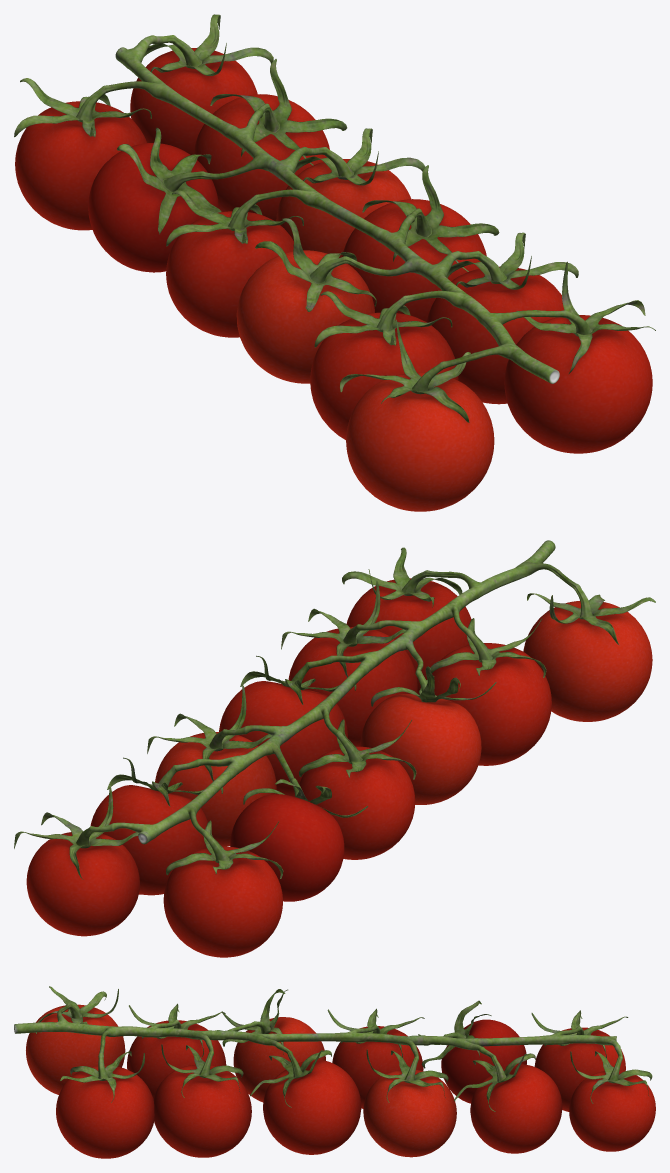
The model's file is cherry_tomato_branch_02.fbx.
3 views of the same model, one above another, from view 1: azimuth 30°, elevation 25°; view 2: azimuth 150°, elevation 25°; view 3: azimuth 270°, elevation 25° (orthographic). The views are drawn at different scales.
Parts seen in each view (by area): view 1: stem, tomato_10, tomato_09, tomato_06, tomato_02, tomato_04, tomato_00, tomato_08, tomato_11, tomato_03, tomato_01, tomato_07 (+1 smaller); view 2: stem, tomato_10, tomato_02, tomato_06, tomato_07, tomato_08, tomato_04, tomato_00, tomato_01, tomato_03, tomato_11, tomato_05 (+1 smaller); view 3: stem, tomato_01, tomato_11, tomato_09, tomato_05, tomato_03, tomato_07, tomato_10, tomato_06, tomato_08, tomato_04, tomato_02 (+1 smaller).
Part boxes in pixels (box(x1,y1,x2,y2)): stem: box(14, 14, 655, 422); tomato_10: box(346, 372, 494, 511); tomato_09: box(504, 315, 652, 453); tomato_06: box(236, 250, 374, 383); tomato_02: box(15, 101, 146, 230); tomato_04: box(88, 143, 218, 272); tomato_00: box(166, 211, 293, 337); tomato_08: box(310, 312, 458, 439); tomato_11: box(426, 266, 563, 404); tomato_03: box(193, 94, 329, 221); tomato_01: box(342, 199, 486, 321); tomato_07: box(130, 48, 257, 154); stem: box(14, 540, 655, 879); tomato_10: box(523, 601, 652, 721); tomato_02: box(163, 846, 282, 957); tomato_06: box(360, 694, 481, 804); tomato_07: box(26, 832, 139, 936); tomato_08: box(432, 643, 551, 765); tomato_04: box(230, 794, 344, 901); tomato_00: box(299, 746, 415, 859); tomato_01: box(219, 681, 347, 796); tomato_03: box(90, 785, 207, 895); tomato_11: box(288, 627, 417, 746); tomato_05: box(155, 732, 276, 846); stem: box(14, 986, 652, 1111); tomato_01: box(263, 1059, 361, 1154); tomato_11: box(153, 1064, 251, 1157); tomato_09: box(56, 1065, 154, 1158); tomato_05: box(363, 1070, 456, 1157); tomato_03: box(470, 1064, 562, 1153); tomato_07: box(569, 1070, 655, 1151); tomato_10: box(26, 1004, 125, 1094); tomato_06: box(233, 1017, 325, 1102); tomato_08: box(127, 1020, 226, 1098); tomato_04: box(441, 1019, 526, 1103); tomato_02: box(534, 1027, 625, 1111).
Size of the model in its own units: 9.71 by 5.01 by 25.43.
Materials: 1 (1 with a texture image).
